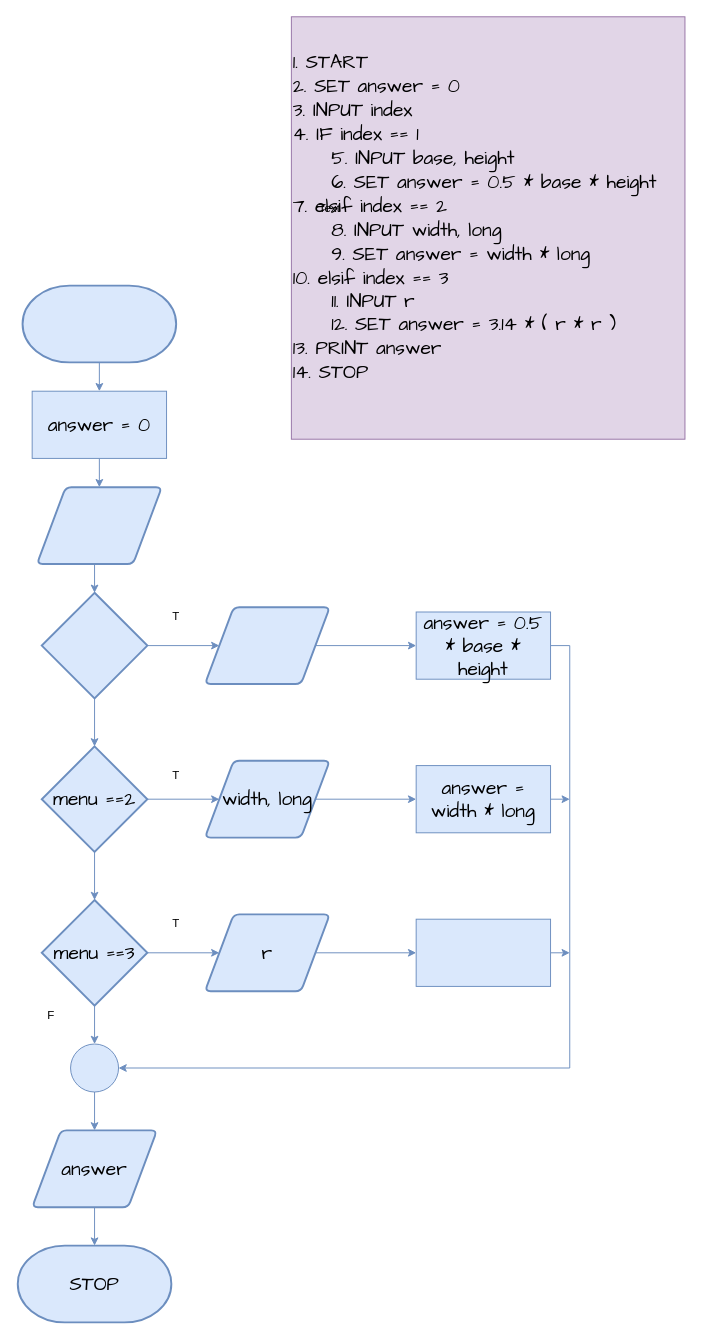
Some shapes in this 702 by 1340 pixel diagram are drawn without their labels. Here are the shapes that lost their labels. From the top down, the centre of each, then its label:
At pixel 99 323: "START".
At pixel 99 525: "menu".
At pixel 94 645: "menu == 1".
At pixel 267 645: "base, height".
At pixel 483 952: "answer = 3.14 * (r * r)".
